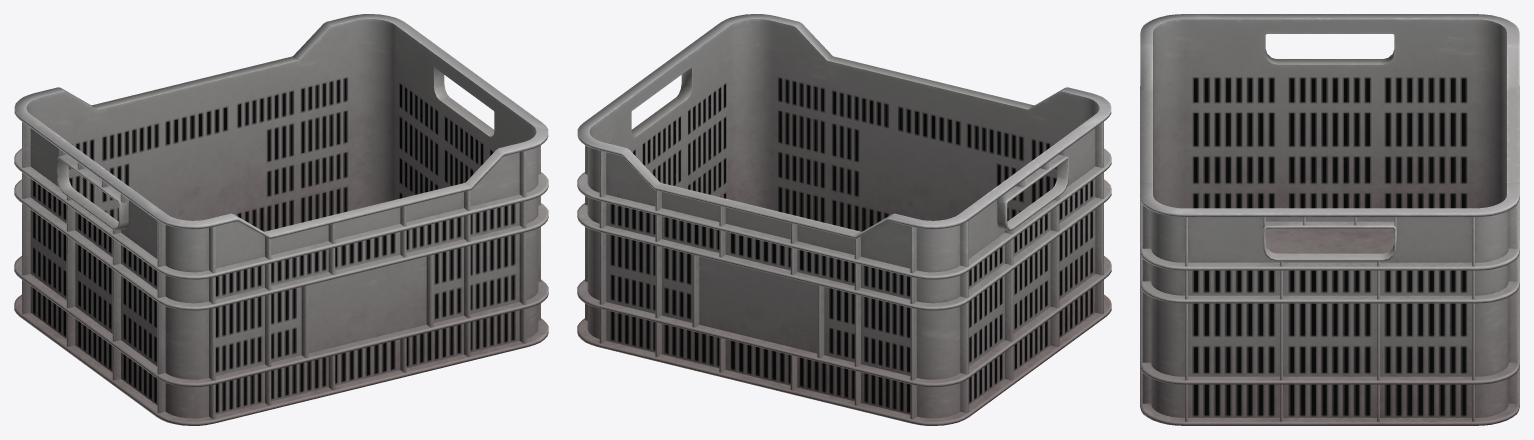
The model's file is plastic_crate.glb.
3 views of the same model, side by side, from view 1: azimuth 30°, elevation 25°; view 2: azimuth 150°, elevation 25°; view 3: azimuth 270°, elevation 25° (orthographic). The views are drawn at different scales.
Parts seen in each view (by area): view 1: plastic_crate_2; view 2: plastic_crate_2; view 3: plastic_crate_2.
Boxes of the visible parts, x1=… form: plastic_crate_2: x1=14, y1=14, x2=548, y2=425; plastic_crate_2: x1=577, y1=14, x2=1111, y2=425; plastic_crate_2: x1=1140, y1=14, x2=1519, y2=425.
Size of the model in its own units: 0.5055 by 0.2541 by 0.4055.
Materials: 1 (1 with a texture image).
